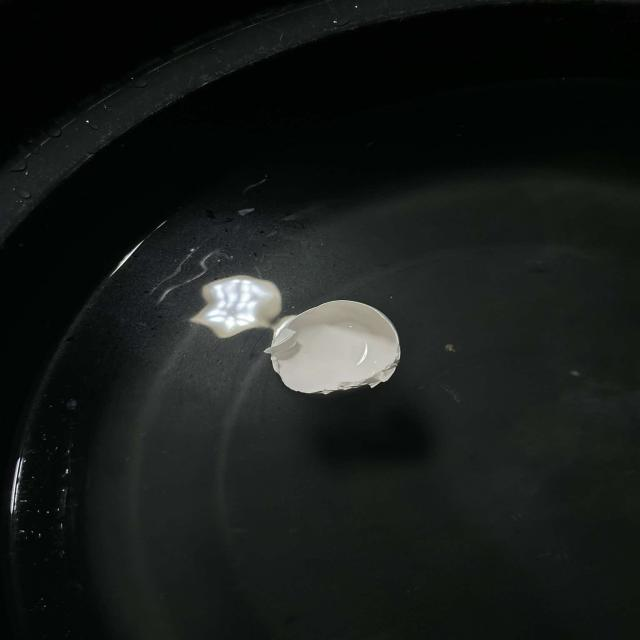Eggshell: (265, 301, 400, 394)
